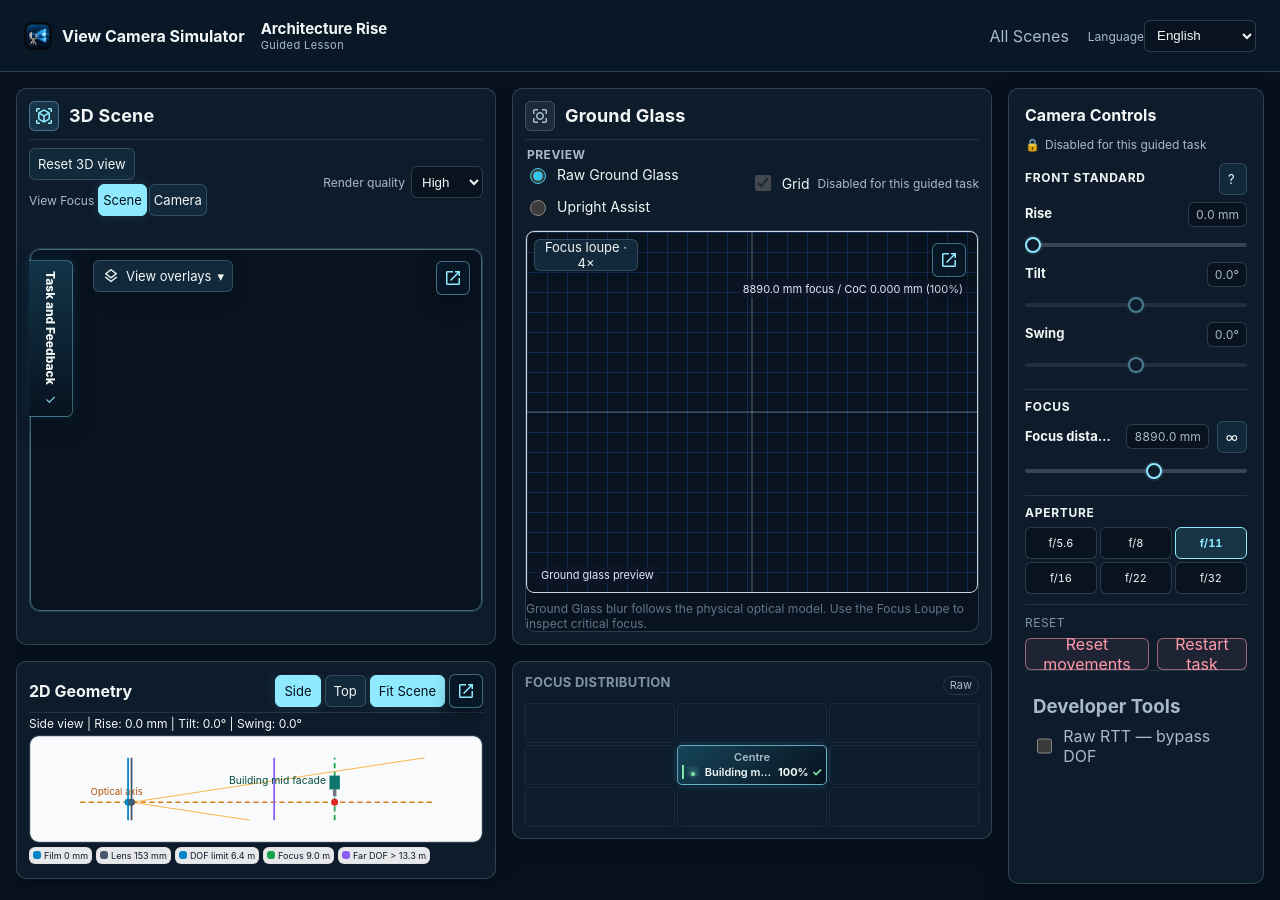
phase 12 completion overlay › TST-INT-013 shows completion overlay when task passes
Click the button "Task and Feedback ✓" at (51, 339), box [29,260,73,417]
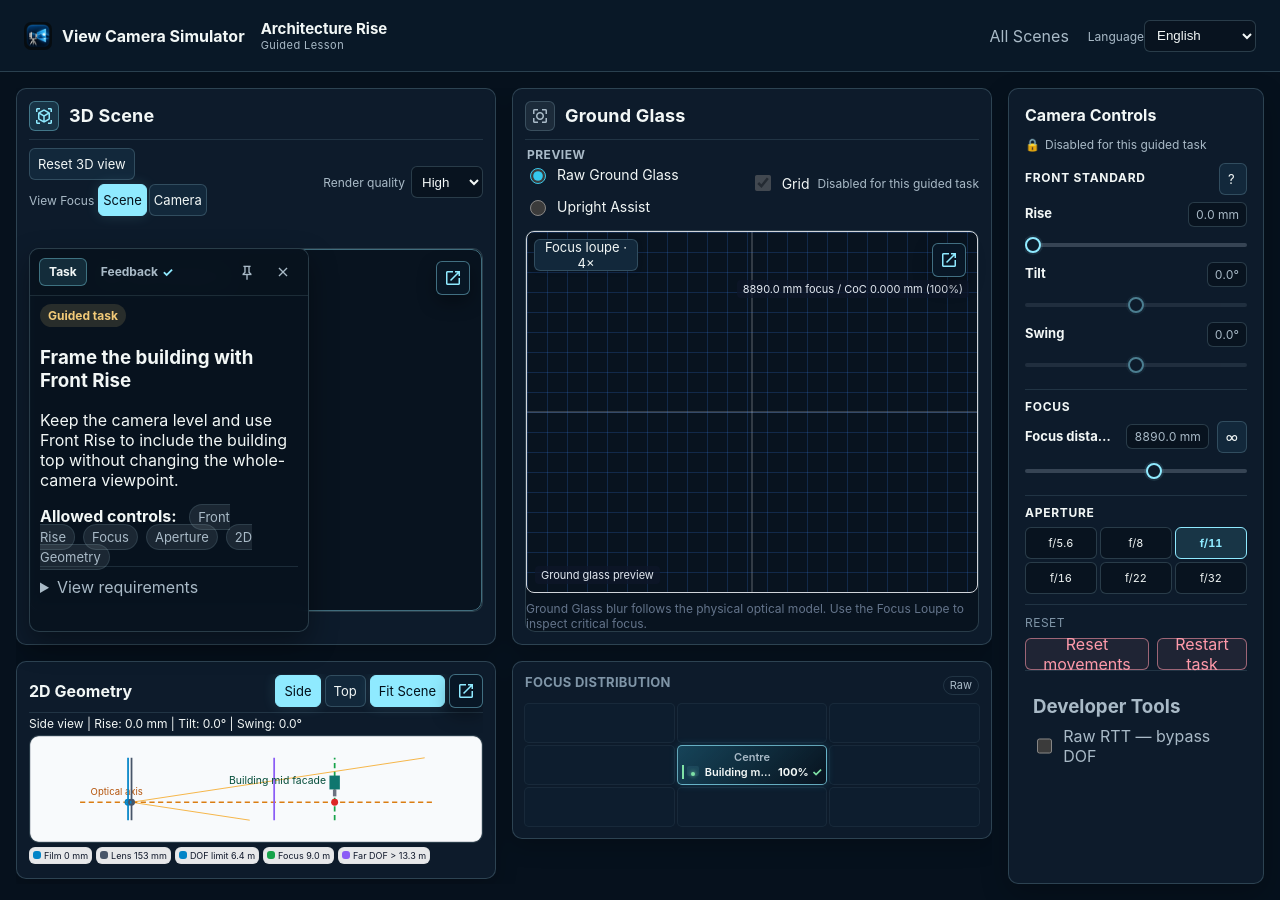
Click the button with aria-label "Feedback — Task completed" at (137, 272), box [91,258,184,286]
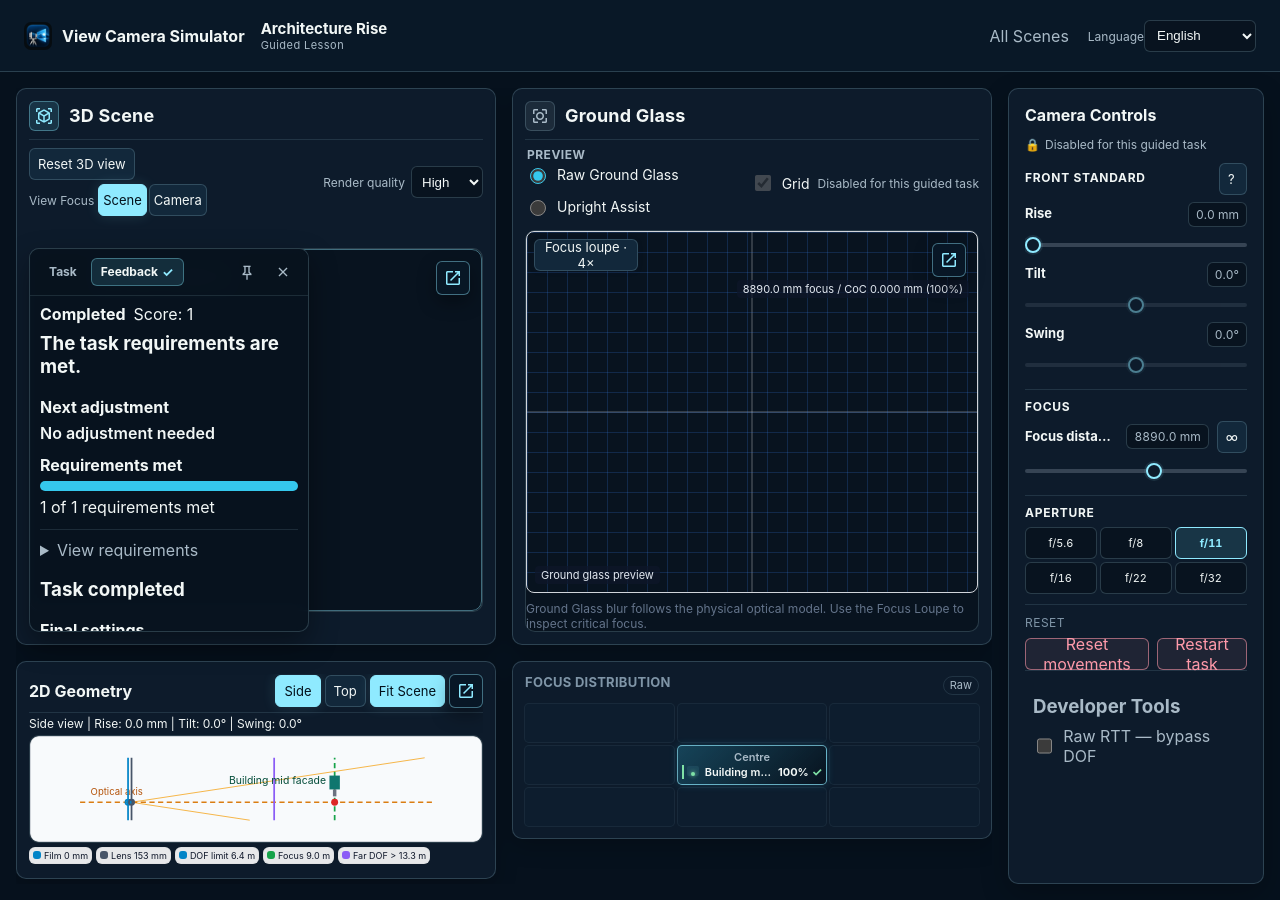
Expected: the heading "Task completed" is shown, [40,579,185,602]
